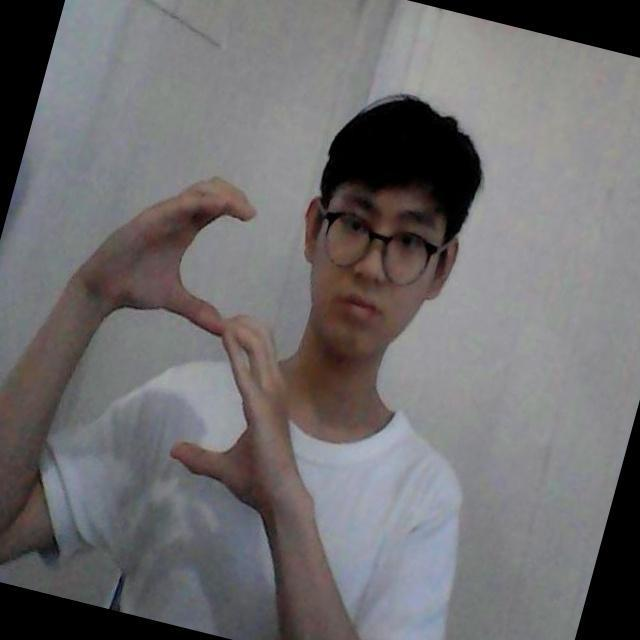S: (138, 172, 293, 487)
